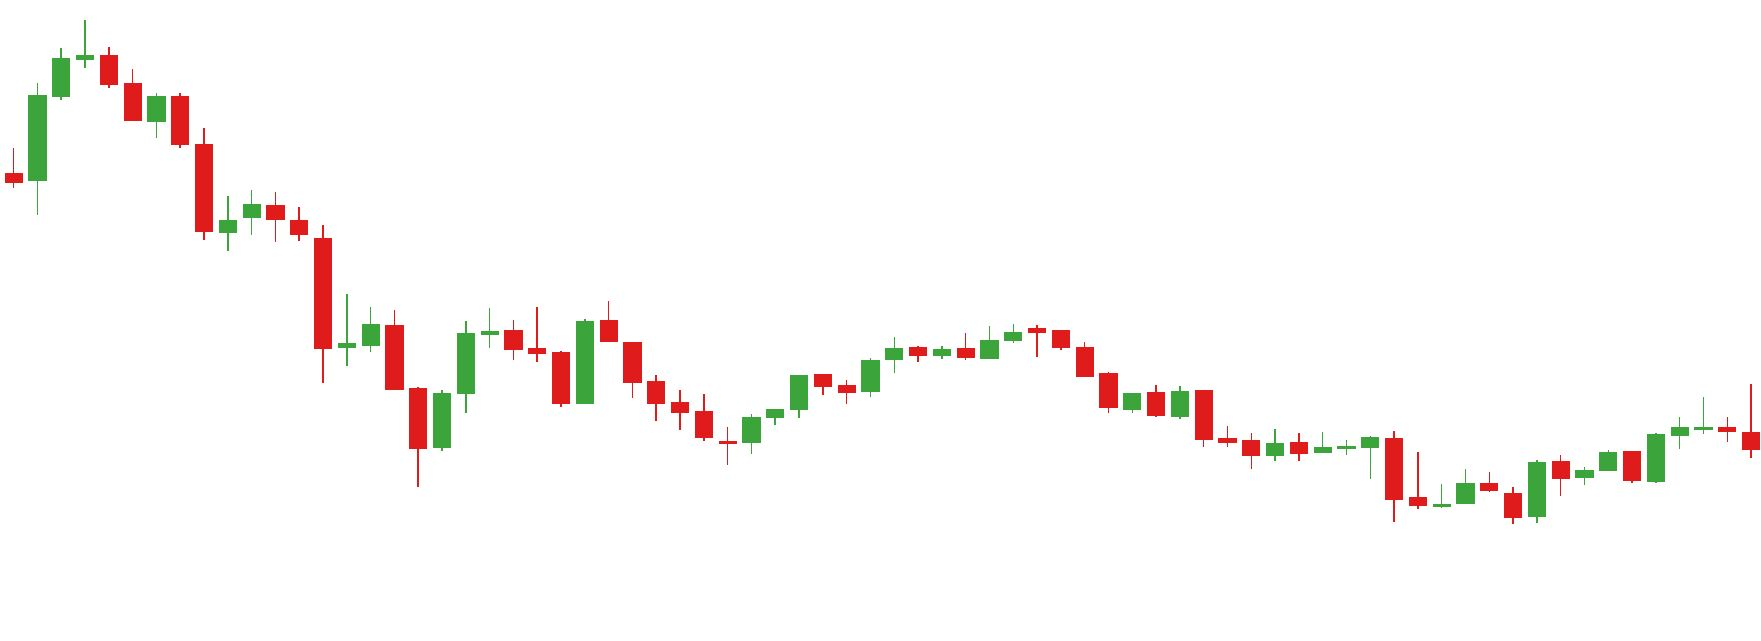sell: (483, 294, 621, 379)
